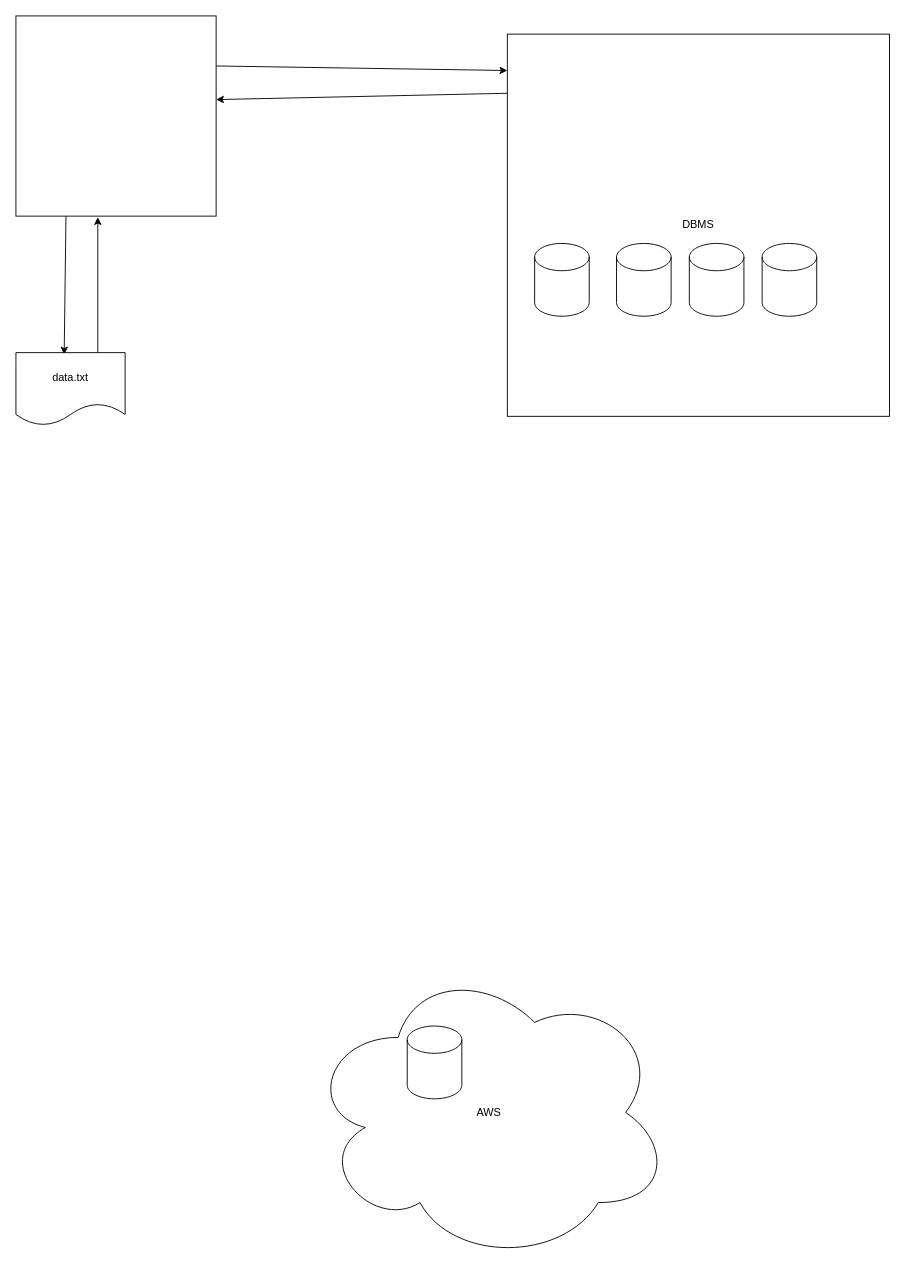
This 905x1279 diagram has some shape labels left out. Each missing label, with the centre of its shape:
DB: the point at 434,1062
Pytest framework: the point at 115,115
